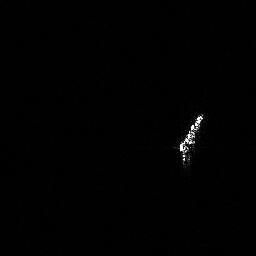ship: (176, 110, 208, 172)
